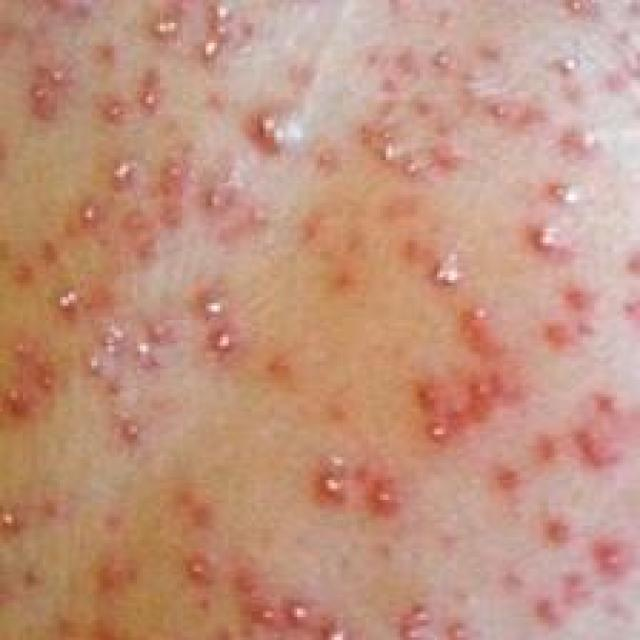others: (0, 3, 597, 640)
